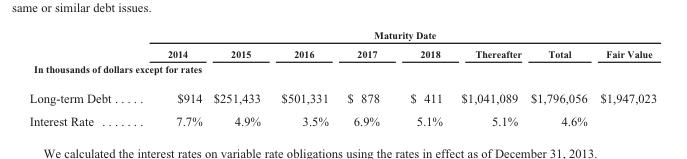table: (28, 28, 656, 127)
table column: (28, 28, 138, 127), (451, 28, 525, 127), (138, 28, 207, 127), (525, 28, 593, 127), (270, 28, 337, 127), (207, 28, 270, 127), (593, 28, 656, 127), (337, 28, 394, 127), (394, 28, 451, 127)
table column header: (28, 28, 656, 61)
table projected row header: (28, 61, 656, 82)
table row: (28, 82, 656, 109), (28, 61, 656, 82), (28, 109, 656, 127), (28, 44, 656, 61), (28, 28, 656, 44)
table spanning cell: (138, 28, 656, 44)
